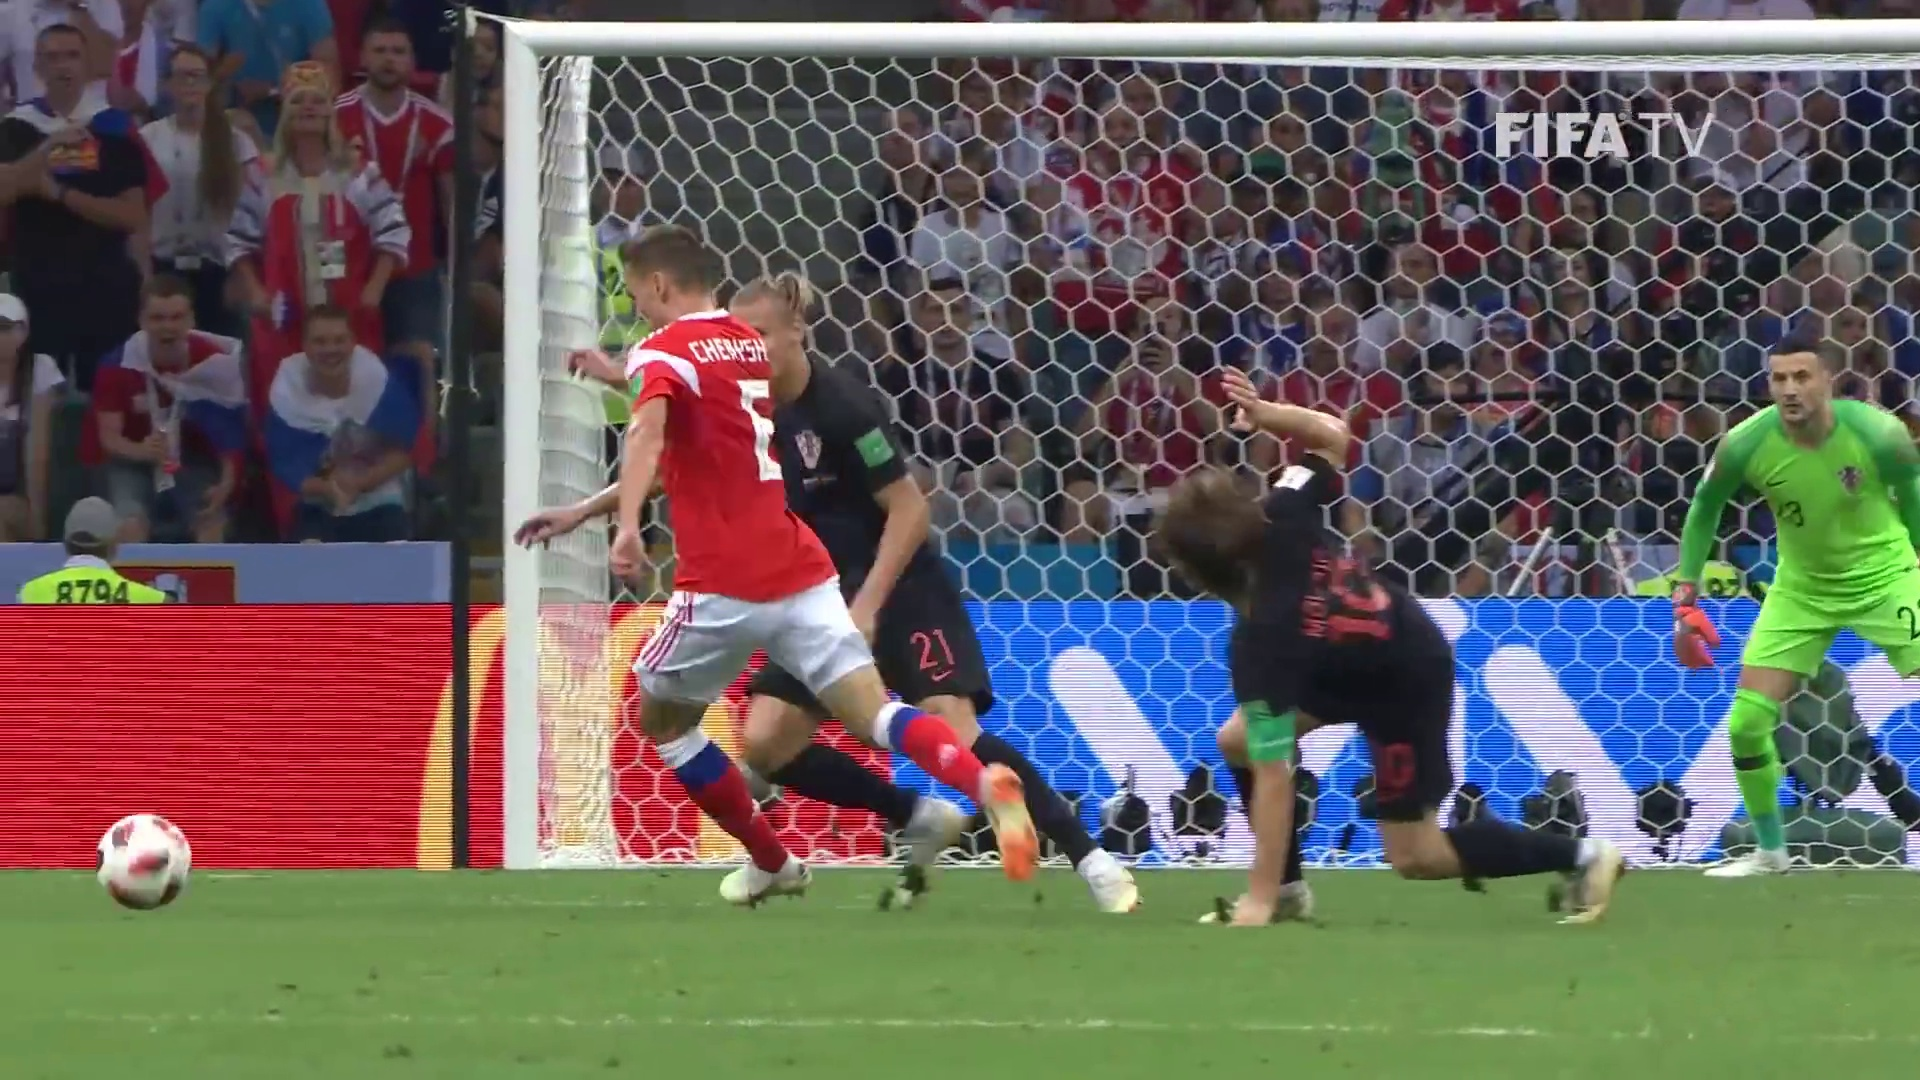ball: (93, 816, 191, 904)
person: (612, 227, 1042, 902), (1156, 361, 1634, 927), (726, 272, 1140, 916), (1677, 331, 1920, 876)
